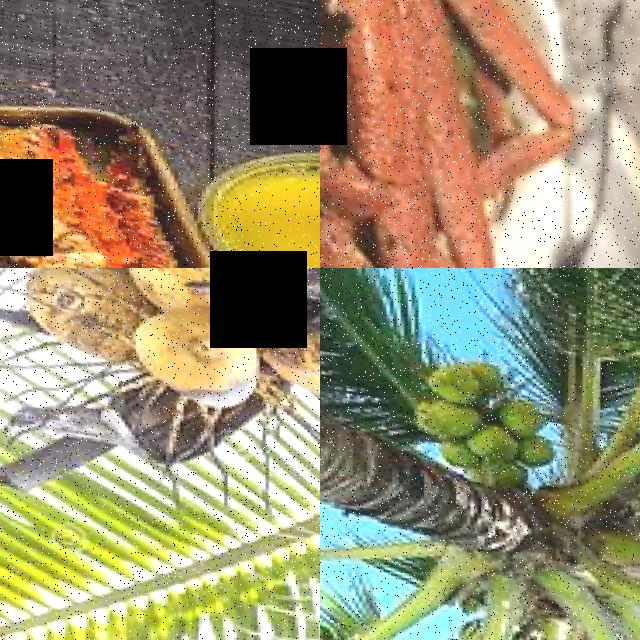coconut: (119, 291, 263, 409), (13, 268, 143, 360), (250, 298, 320, 402)
coconuts: (400, 352, 563, 488)
crab: (320, 0, 529, 268), (0, 121, 247, 268)
